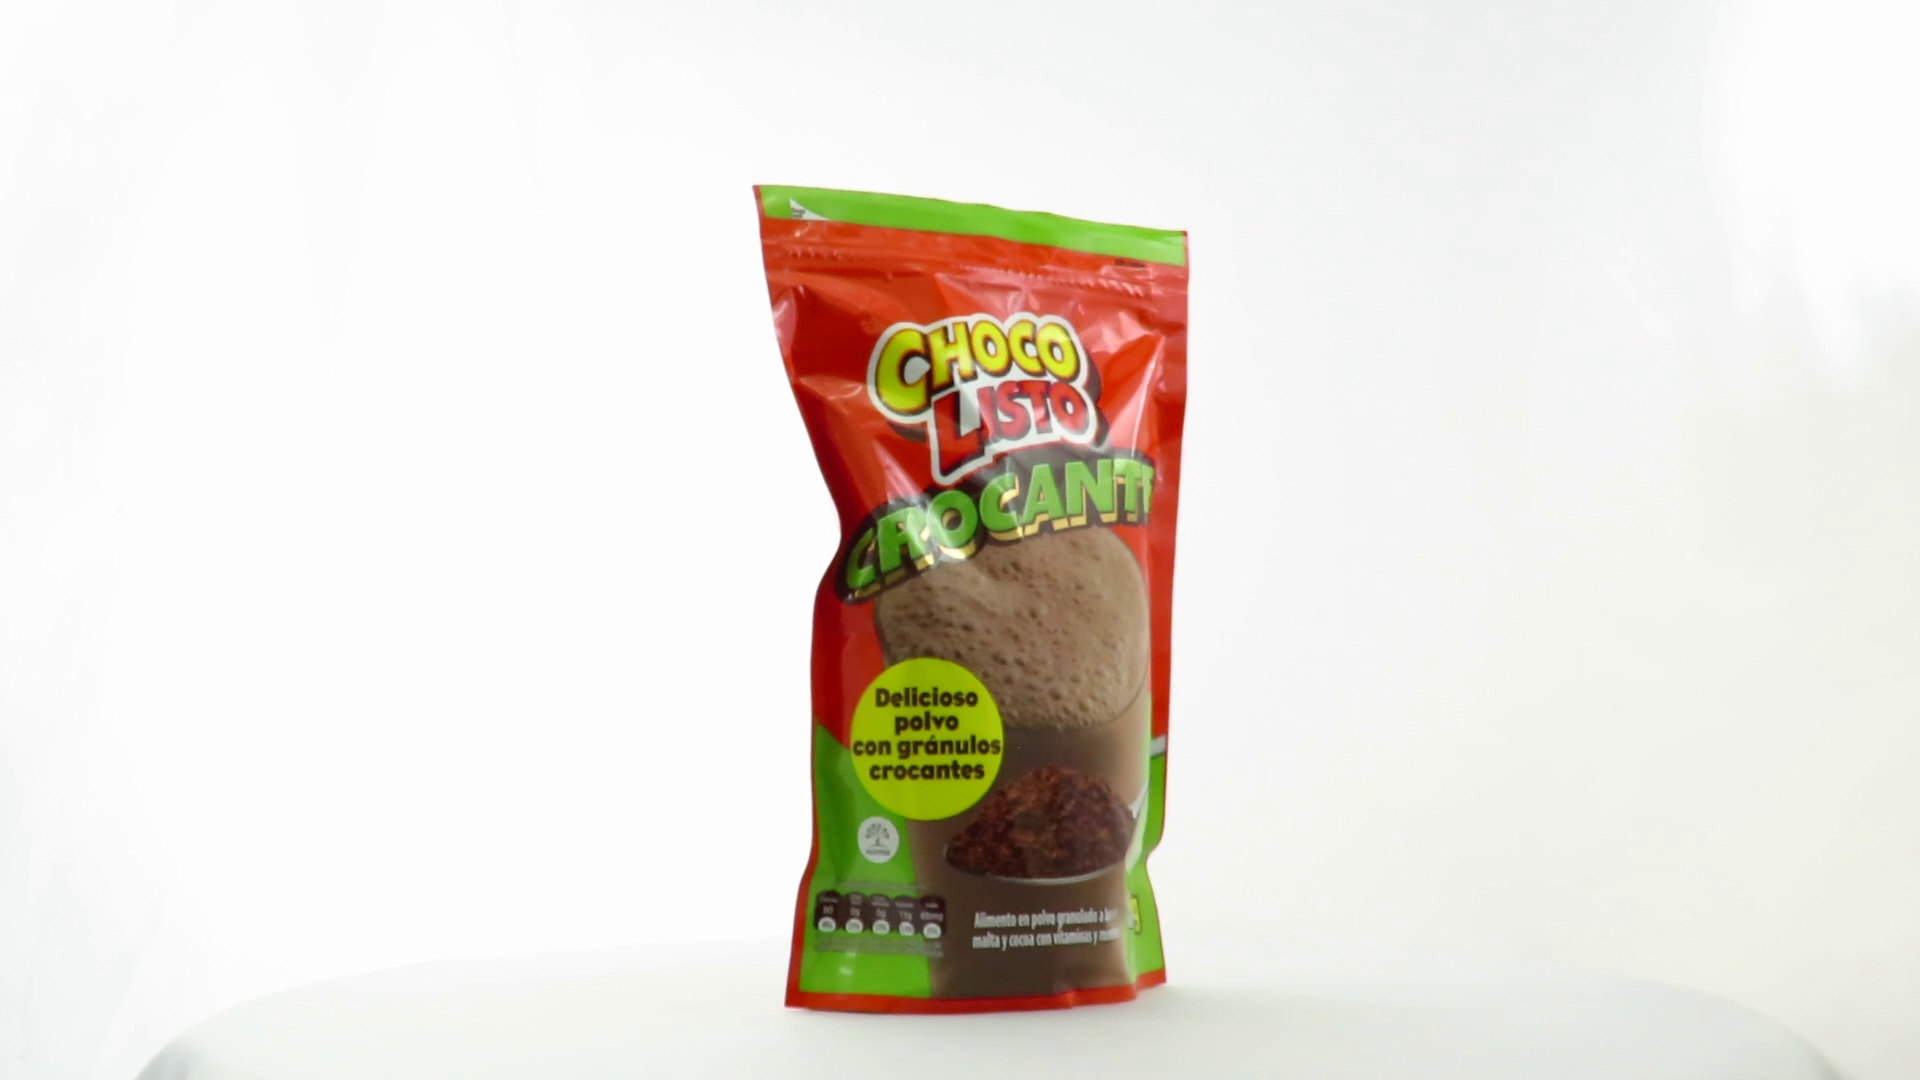COL0170102DYP50000: (746, 179, 1196, 1022)
